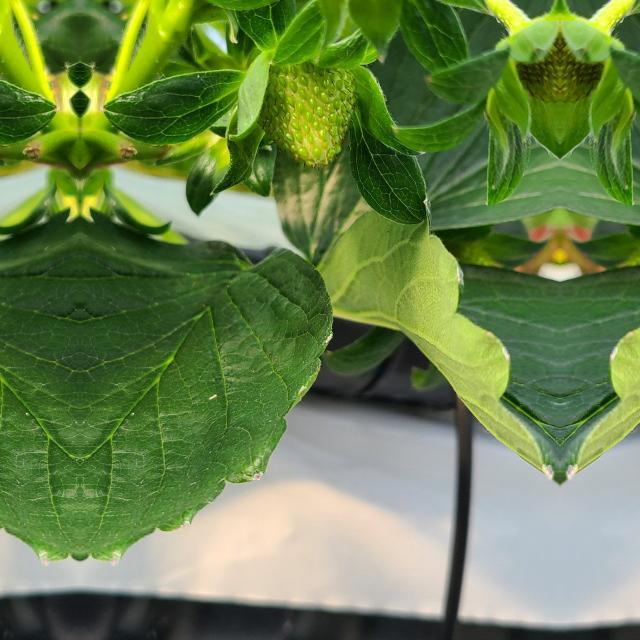Health_25: (258, 60, 356, 166)
